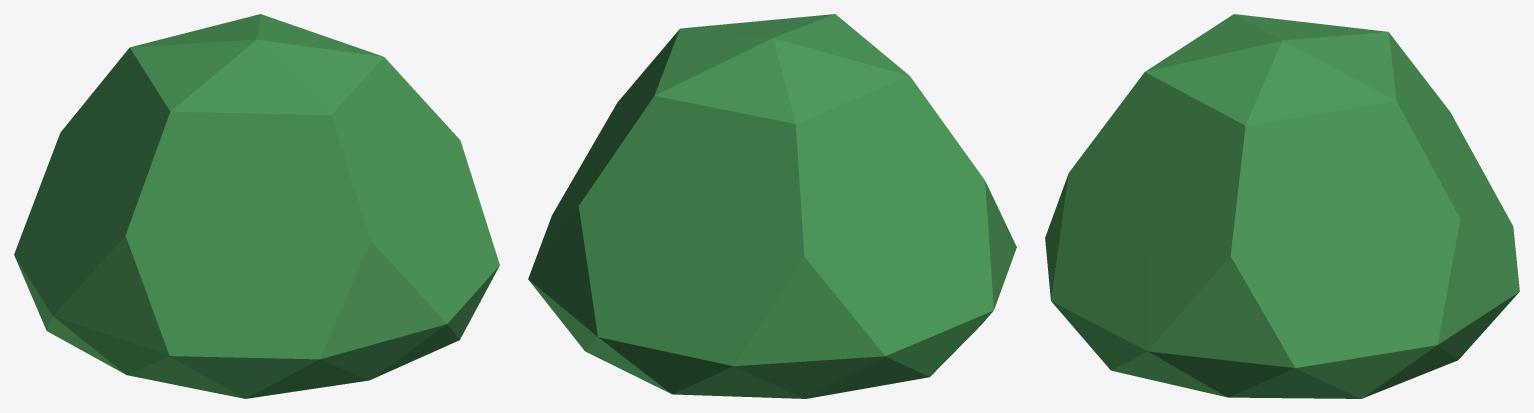
The model's file is Bush.FBX.
3 views of the same model, side by side, from view 1: azimuth 30°, elevation 25°; view 2: azimuth 150°, elevation 25°; view 3: azimuth 270°, elevation 25° (orthographic).
Visible parts, largest first — view 1: Bush; view 2: Bush; view 3: Bush.
Boxes of the visible parts, <box> form: Bush: <box>14,14,499,398</box>; Bush: <box>528,14,1016,398</box>; Bush: <box>1045,14,1519,398</box>.
Bounding box in the file's own units: 255 × 155 × 246.
